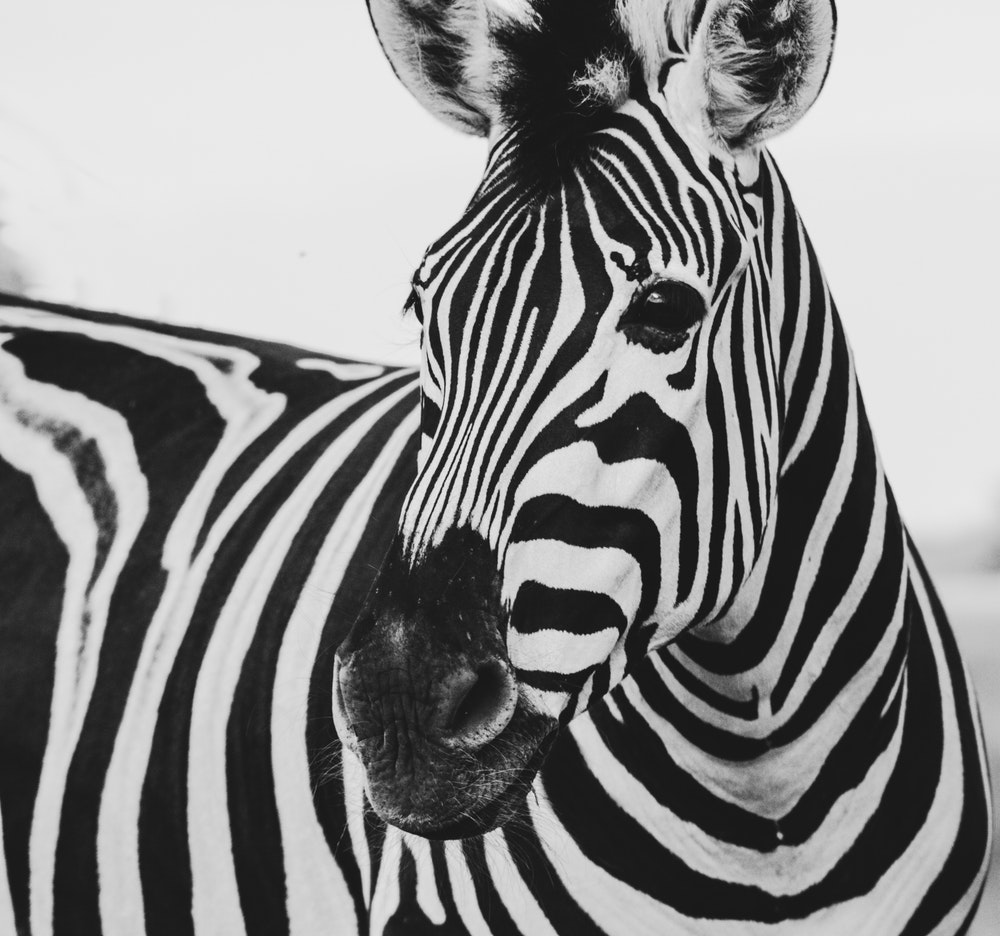Zebra: (1, 8, 904, 896)
